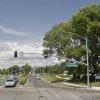Tree: (39, 3, 100, 91)
